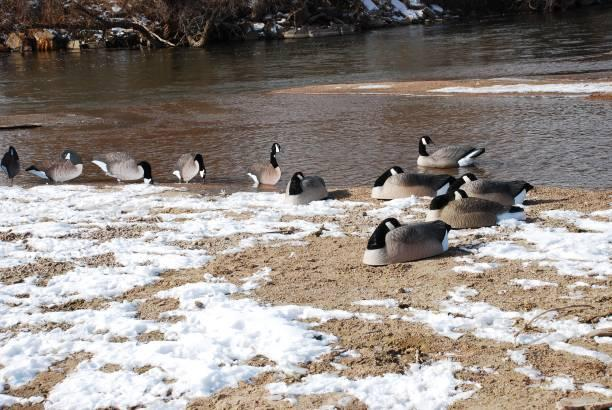Canadian-Goose: (360, 215, 455, 260), (427, 190, 517, 229), (411, 133, 487, 169), (371, 166, 452, 199), (453, 173, 531, 202), (90, 149, 153, 182), (29, 148, 85, 183), (244, 143, 283, 185), (171, 151, 209, 182), (287, 173, 329, 201)
